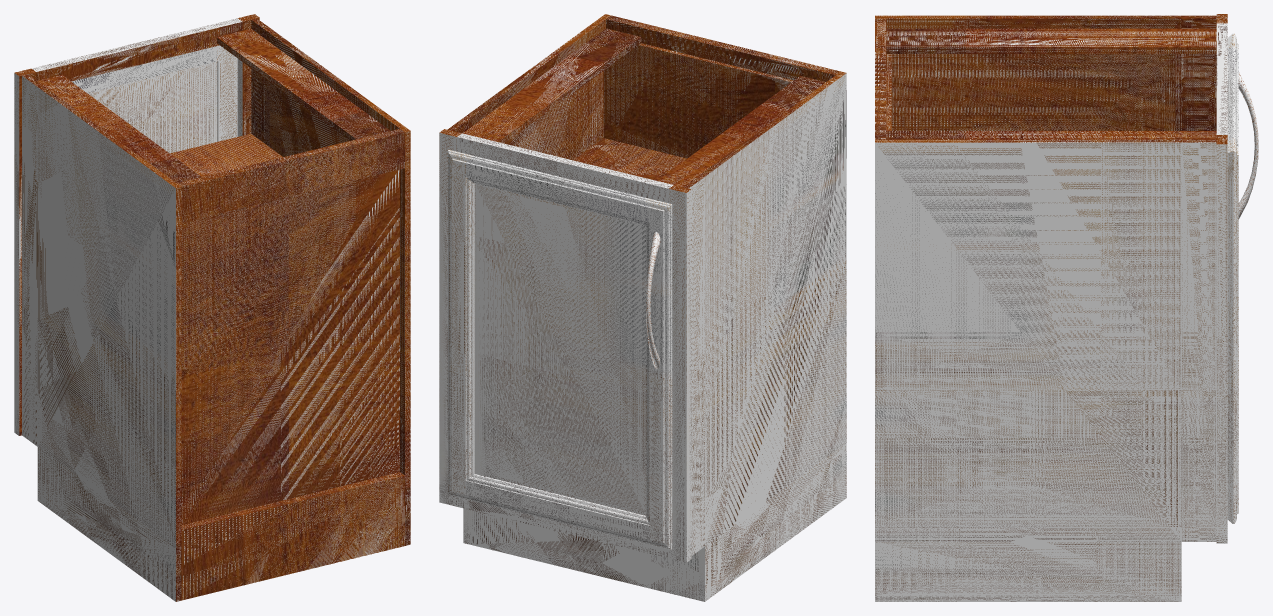
3 views of the same model, side by side, from view 1: azimuth 30°, elevation 25°; view 2: azimuth 150°, elevation 25°; view 3: azimuth 270°, elevation 25° (orthographic). The views are drawn at different scales.
Visible parts, largest first — view 1: mesh5_mesh5-geometry, mesh8_mesh8-geometry, mesh13_mesh13-geometry, mesh4_mesh4-geometry, mesh11_mesh11-geometry, mesh9_mesh9-geometry, mesh23_mesh23-geometry, mesh7_mesh7-geometry, mesh15_mesh15-geometry, mesh6_mesh6-geometry, mesh3_mesh3-geometry, mesh16_mesh16-geometry (+4 smaller); view 2: mesh8_mesh8-geometry, mesh24_mesh24-geometry, mesh5_mesh5-geometry, mesh3_mesh3-geometry, mesh25_mesh25-geometry, mesh9_mesh9-geometry, mesh14_mesh14-geometry, mesh26_mesh26-geometry, mesh11_mesh11-geometry, mesh6_mesh6-geometry, mesh15_mesh15-geometry, mesh22_mesh22-geometry (+10 smaller); view 3: mesh11_mesh11-geometry, mesh8_mesh8-geometry, mesh12_mesh12-geometry, mesh10_mesh10-geometry, mesh16_mesh16-geometry, mesh3_mesh3-geometry, mesh25_mesh25-geometry, mesh7_mesh7-geometry, mesh15_mesh15-geometry, mesh4_mesh4-geometry, mesh6_mesh6-geometry, mesh21_mesh21-geometry (+2 smaller).
Part boxes in pixels (left/top/right/bottom): mesh5_mesh5-geometry: left=181, top=169, right=399, bottom=524; mesh8_mesh8-geometry: left=37, top=86, right=181, bottom=547; mesh13_mesh13-geometry: left=181, top=472, right=404, bottom=600; mesh4_mesh4-geometry: left=177, top=129, right=404, bottom=222; mesh11_mesh11-geometry: left=267, top=30, right=410, bottom=491; mesh9_mesh9-geometry: left=37, top=447, right=181, bottom=601; mesh23_mesh23-geometry: left=89, top=63, right=215, bottom=153; mesh7_mesh7-geometry: left=22, top=74, right=42, bottom=446; mesh15_mesh15-geometry: left=217, top=29, right=390, bottom=140; mesh6_mesh6-geometry: left=31, top=18, right=242, bottom=81; mesh3_mesh3-geometry: left=14, top=14, right=259, bottom=435; mesh16_mesh16-geometry: left=37, top=75, right=200, bottom=182; mesh8_mesh8-geometry: left=699, top=71, right=846, bottom=545; mesh24_mesh24-geometry: left=476, top=186, right=645, bottom=512; mesh5_mesh5-geometry: left=603, top=43, right=793, bottom=158; mesh3_mesh3-geometry: left=439, top=129, right=691, bottom=562; mesh25_mesh25-geometry: left=448, top=180, right=476, bottom=471; mesh9_mesh9-geometry: left=699, top=443, right=846, bottom=601; mesh14_mesh14-geometry: left=469, top=510, right=698, bottom=600; mesh26_mesh26-geometry: left=645, top=227, right=672, bottom=520; mesh11_mesh11-geometry: left=464, top=14, right=610, bottom=160; mesh6_mesh6-geometry: left=457, top=133, right=673, bottom=558; mesh15_mesh15-geometry: left=463, top=28, right=641, bottom=143; mesh22_mesh22-geometry: left=473, top=471, right=645, bottom=542; mesh11_mesh11-geometry: left=875, top=139, right=1181, bottom=541; mesh8_mesh8-geometry: left=875, top=15, right=1181, bottom=130; mesh12_mesh12-geometry: left=875, top=542, right=1181, bottom=601; mesh10_mesh10-geometry: left=1181, top=139, right=1216, bottom=541; mesh16_mesh16-geometry: left=886, top=28, right=1216, bottom=53; mesh3_mesh3-geometry: left=1216, top=14, right=1227, bottom=543; mesh25_mesh25-geometry: left=1227, top=180, right=1238, bottom=491; mesh7_mesh7-geometry: left=1181, top=15, right=1216, bottom=130; mesh15_mesh15-geometry: left=886, top=131, right=1216, bottom=139; mesh4_mesh4-geometry: left=875, top=18, right=886, bottom=139; mesh6_mesh6-geometry: left=1216, top=23, right=1227, bottom=134; mesh21_mesh21-geometry: left=1227, top=48, right=1238, bottom=143.
Bounding box in the file's own units: 0.4366 × 0.7172 × 0.5431.
